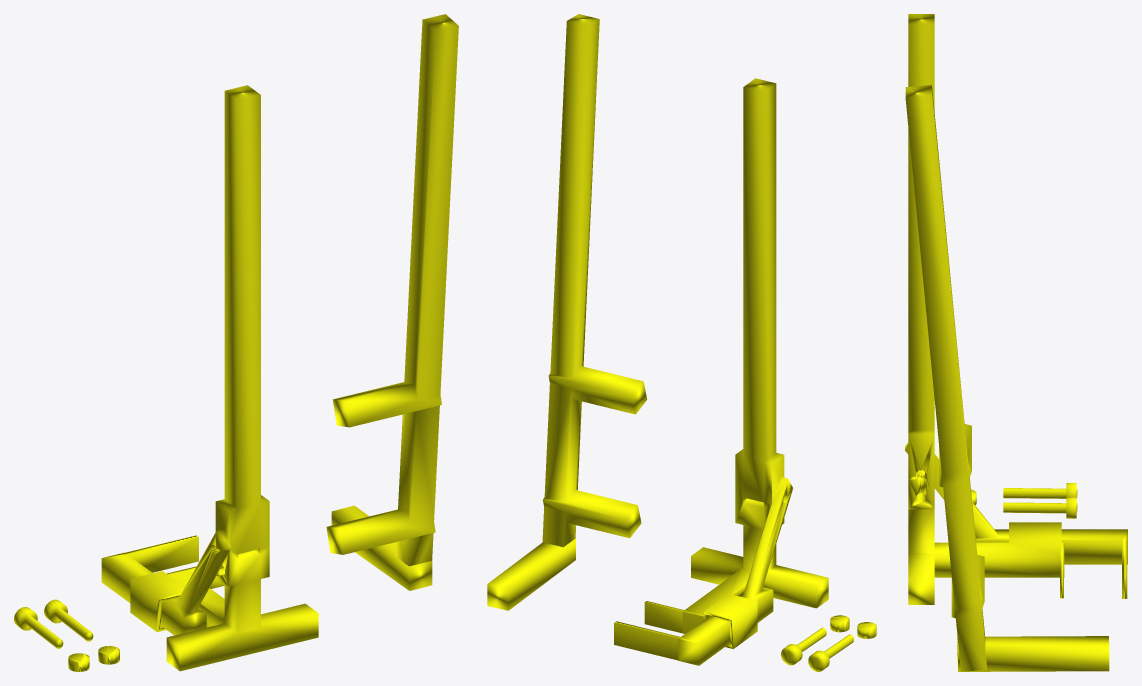
The model's file is Vitthalrao_Patwardhan_Utkarsh_Ashramshala.glb.
3 renders of one model, left to right at view 1: azimuth 30°, elevation 25°; view 2: azimuth 150°, elevation 25°; view 3: azimuth 270°, elevation 25°, orthographic. The views are drawn at different scales.
Size of the model in its own units: 0.0775 by 0.121 by 0.0421.
